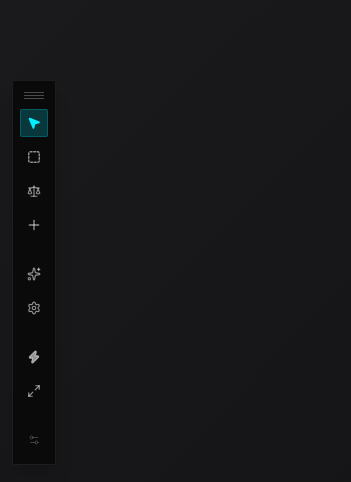
Scenario: CustomizePopover — render states › should close the popover when customize button is clicked again
What coordinates should you click on to do the following:
click the button titled "Customize Toolbar"
I would click on:
 (34, 440)
Its box is [20,426,48,454].
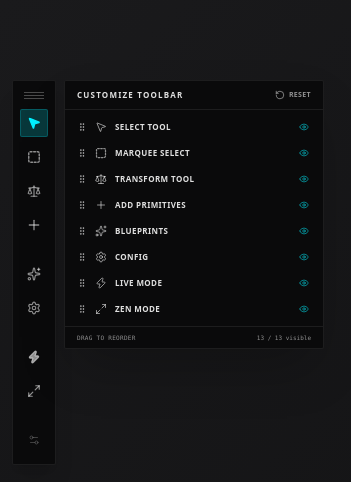
Check: the text "Customize Toolbar" is shown, box [77,89,184,101]
What coordinates should you click on to do the following:
click the button titled "Customize Toolbar"
I would click on:
 (34, 440)
Its box is [20,426,48,454].
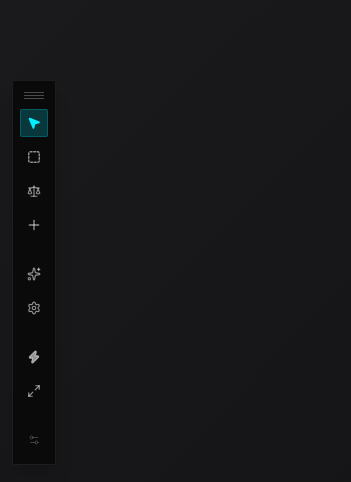
Check: the text "Customize Toolbar" is gone
